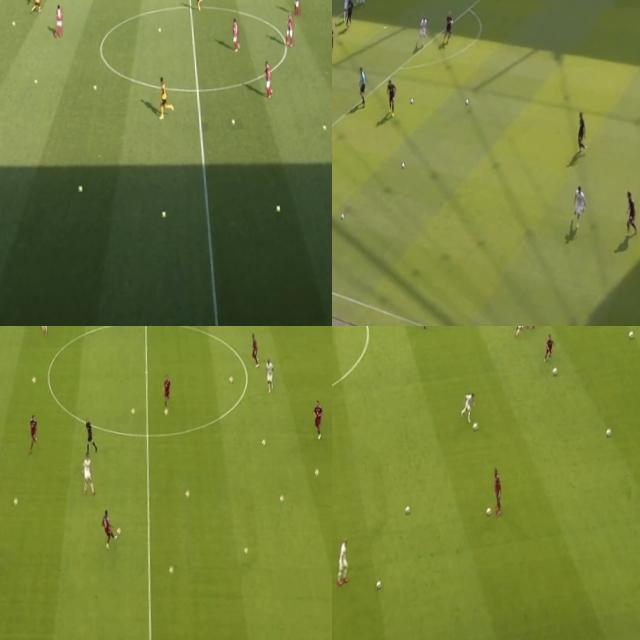ball: (606, 427, 612, 438), (278, 494, 284, 504), (485, 506, 491, 516), (186, 490, 192, 499), (404, 503, 410, 512), (244, 544, 248, 556), (322, 122, 327, 130), (340, 210, 344, 220), (168, 566, 172, 576), (261, 437, 265, 447), (78, 182, 82, 191), (161, 208, 165, 216), (401, 160, 405, 168), (466, 96, 470, 104), (14, 496, 18, 504), (473, 422, 477, 430), (230, 118, 234, 125), (117, 526, 121, 533), (376, 580, 380, 587), (630, 330, 634, 337), (276, 203, 279, 211), (31, 375, 35, 381), (132, 405, 134, 416), (229, 374, 232, 381), (12, 21, 16, 26), (156, 26, 160, 31), (553, 367, 557, 372), (411, 96, 414, 102), (94, 82, 96, 90), (34, 78, 36, 85)
player: (569, 184, 585, 234), (622, 191, 638, 237), (334, 536, 350, 582), (157, 76, 172, 120), (492, 468, 504, 512), (576, 113, 588, 155), (461, 392, 477, 422), (102, 510, 115, 546), (83, 454, 95, 492), (386, 80, 396, 122), (442, 10, 453, 46), (28, 416, 38, 452), (313, 398, 322, 438), (542, 334, 553, 362), (232, 17, 241, 51), (264, 59, 272, 97), (252, 332, 260, 370), (416, 17, 426, 47), (286, 13, 294, 47), (266, 358, 274, 392), (344, 0, 353, 27), (55, 7, 63, 36), (163, 375, 170, 407), (342, 0, 350, 21), (514, 326, 527, 335), (32, 0, 42, 11), (294, 0, 301, 15), (193, 0, 202, 9), (332, 26, 334, 56), (40, 326, 47, 332)
